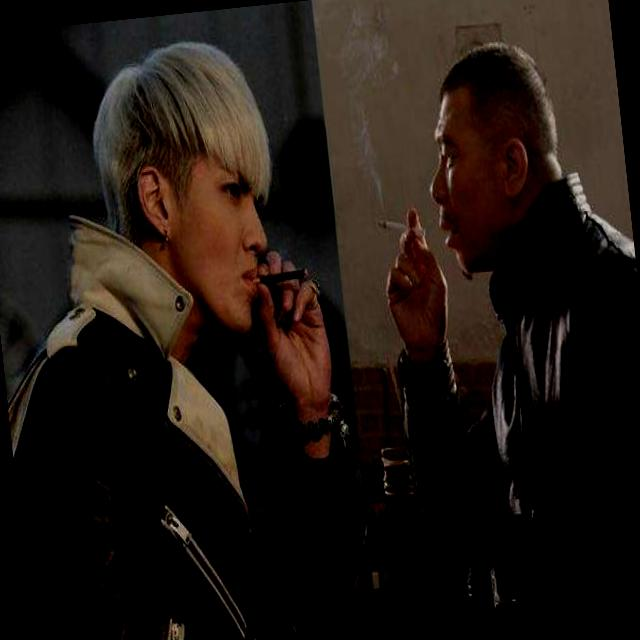cigarette: (370, 212, 407, 238)
